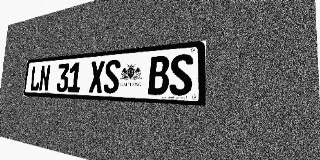1: (67, 62, 82, 92)
3: (56, 63, 70, 92)
B: (148, 55, 170, 95)
L: (30, 65, 41, 91)
N: (39, 65, 51, 92)
S: (169, 53, 193, 96), (103, 59, 121, 94)
X: (89, 60, 105, 93)
